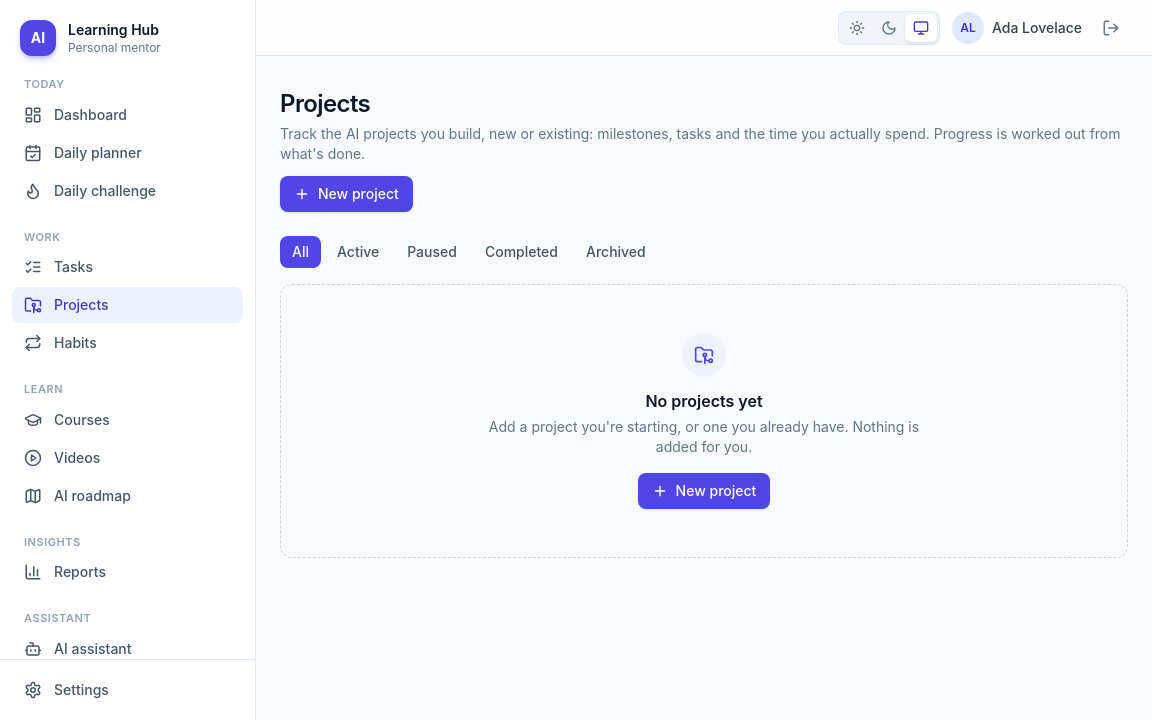
creating a project › fills only the empty fields from a GitHub repo, keeps what you typed, and saves nothing yet
Step 1. Click the 1st button "New project" → (346, 194), box [280, 176, 413, 212]
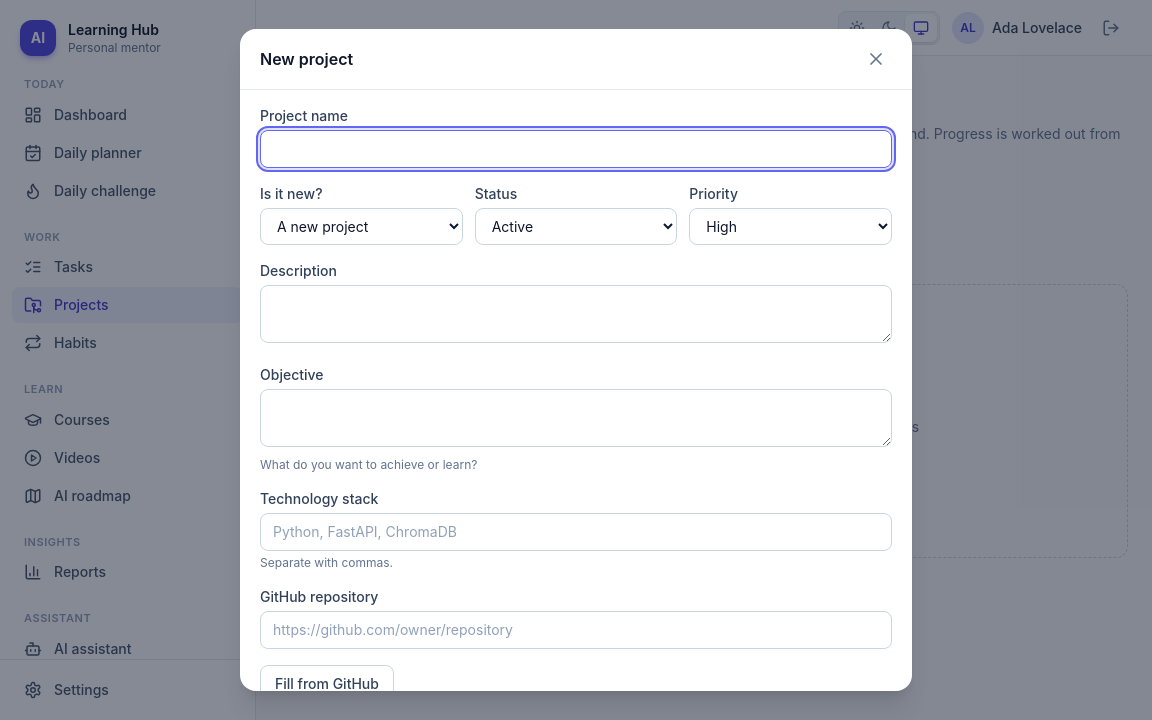
Step 2. Type "My own words" into the text box labelled "Description" → (576, 314), box [260, 285, 892, 343]
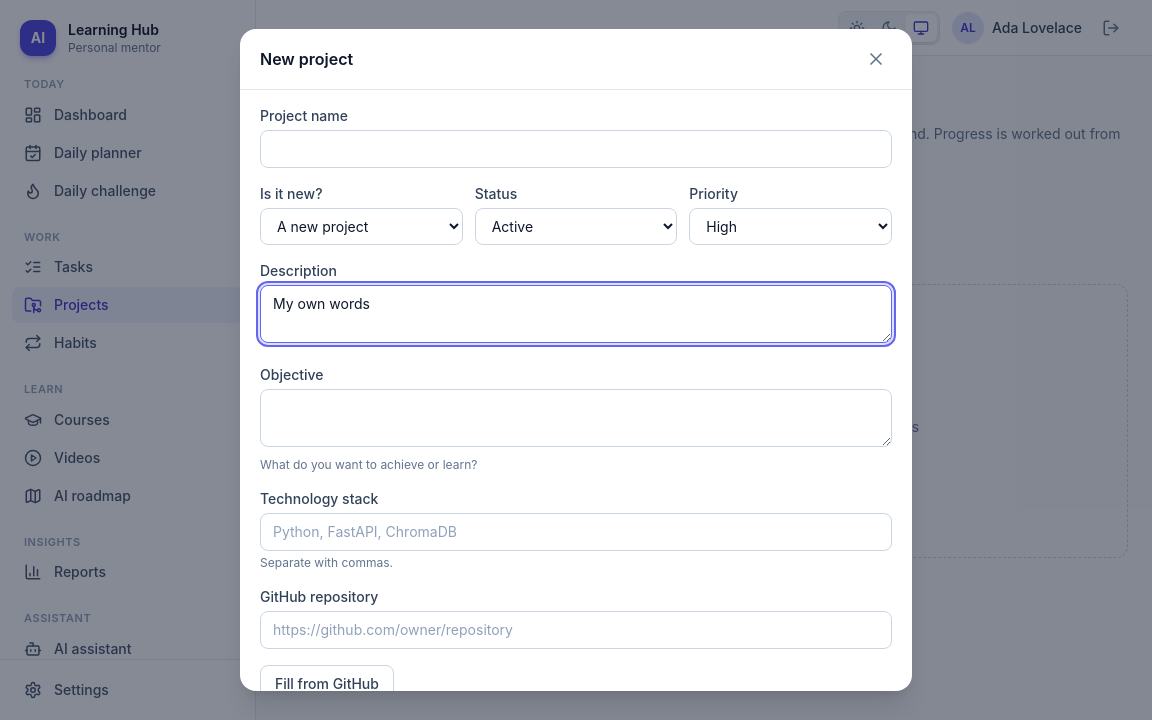
Step 3. Type "https://github.com/me/rag-bot" into the field labelled "GitHub repository" → (576, 630), box [260, 611, 892, 649]
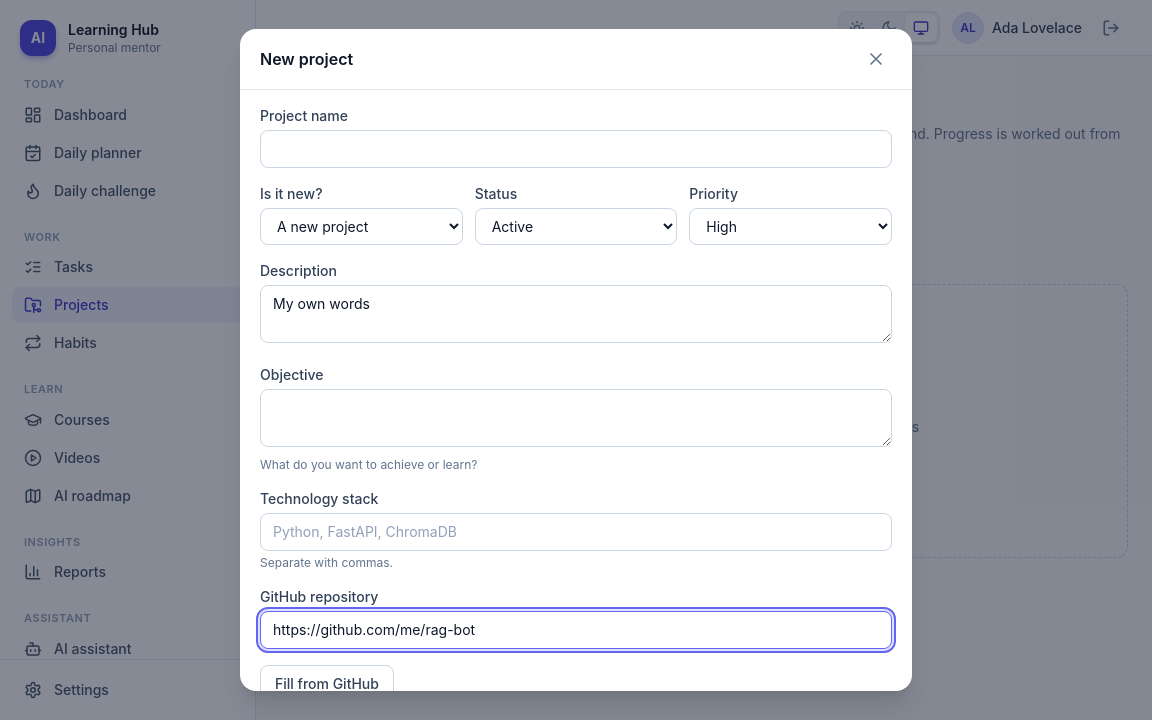
Step 4. Click the button "Fill from GitHub" → (327, 684), box [260, 665, 394, 703]
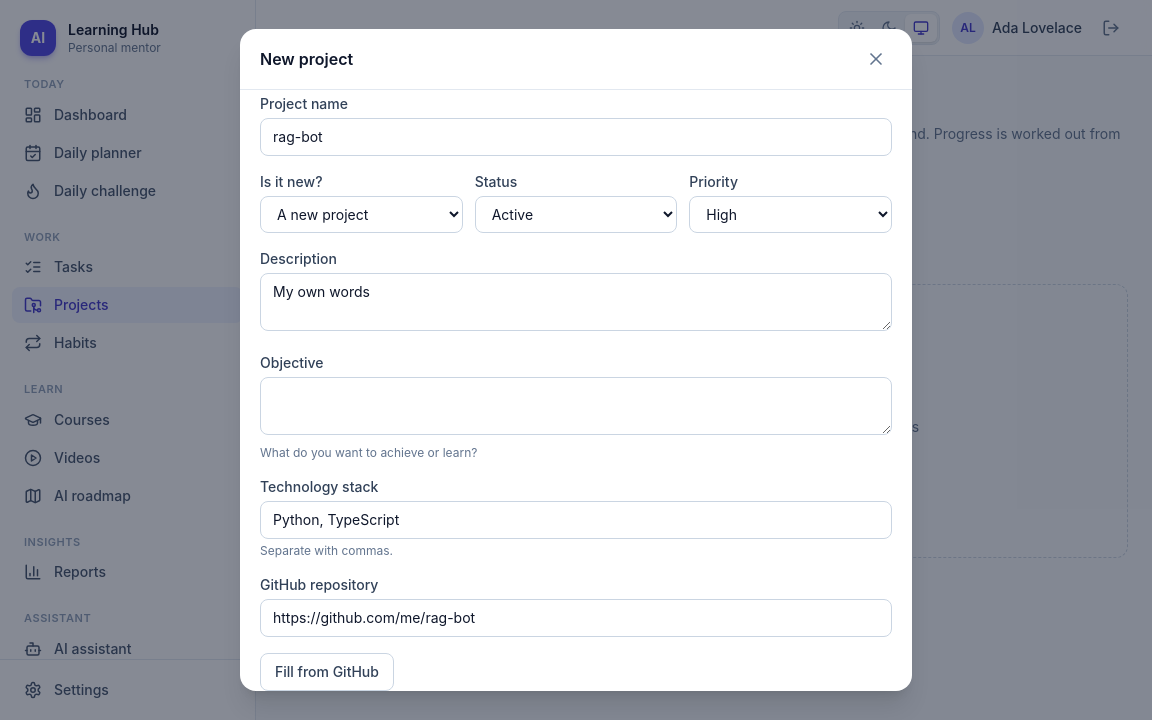
Result: the field labelled "Project name" holds "rag-bot" at [260, 118, 892, 156]
Result: the field labelled "Technology stack Separate with commas." holds "Python, TypeScript" at [260, 501, 892, 539]
